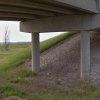Bridge: (3, 7, 91, 64)
